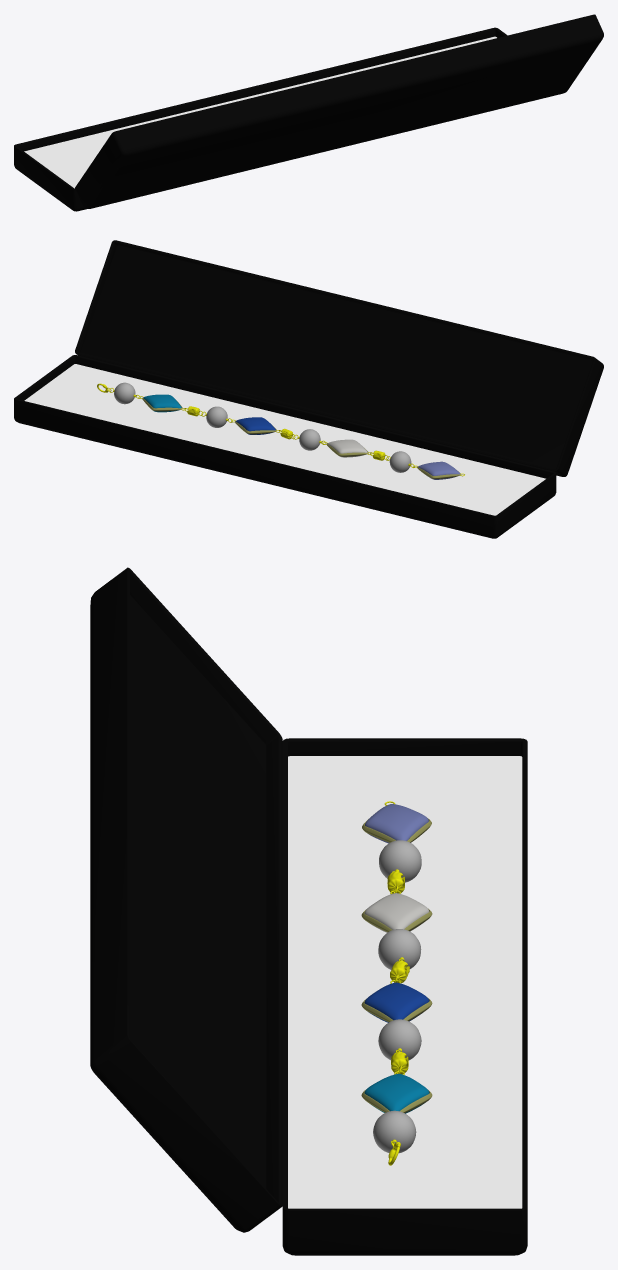
The model's file is Anastasia Pearl (EMP (SBH) 13Y).fbx.
3 views of the same model, one above another, from view 1: azimuth 30°, elevation 25°; view 2: azimuth 150°, elevation 25°; view 3: azimuth 270°, elevation 25° (orthographic). The views are drawn at different scales.
Visible parts, largest first — view 1: Box (Bracelet); view 2: Box (Bracelet), polySurface10 (×4); view 3: Box (Bracelet), polySurface10 (×4), pSphere1 (×4).
Part boxes in pixels (left/top/right/bottom): Box (Bracelet): left=14, top=14, right=603, bottom=211; Box (Bracelet): left=14, top=240, right=603, bottom=538; polySurface10 (×4): left=143, top=394, right=459, bottom=479; Box (Bracelet): left=90, top=567, right=527, bottom=1255; polySurface10 (×4): left=364, top=804, right=429, bottom=1113; pSphere1 (×4): left=373, top=840, right=421, bottom=1153.
Size of the model in its own units: 21.44 by 4.7 by 8.39.
Materials: 8 (1 with a texture image).
